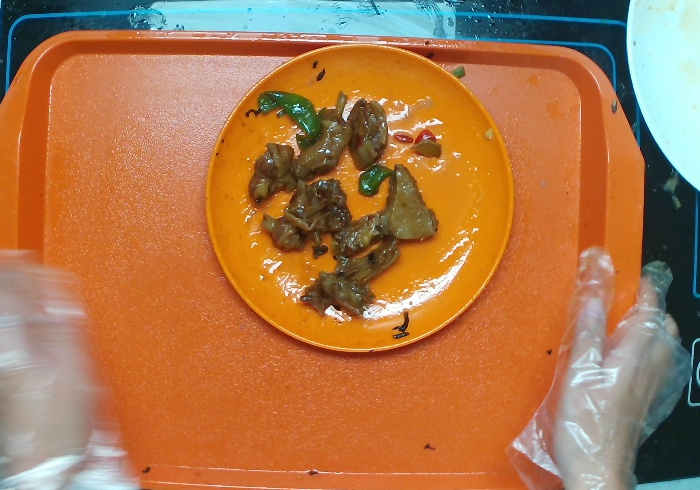HZYJPL-Ju_Huang_Yuan_Pan: (199, 36, 524, 357)
